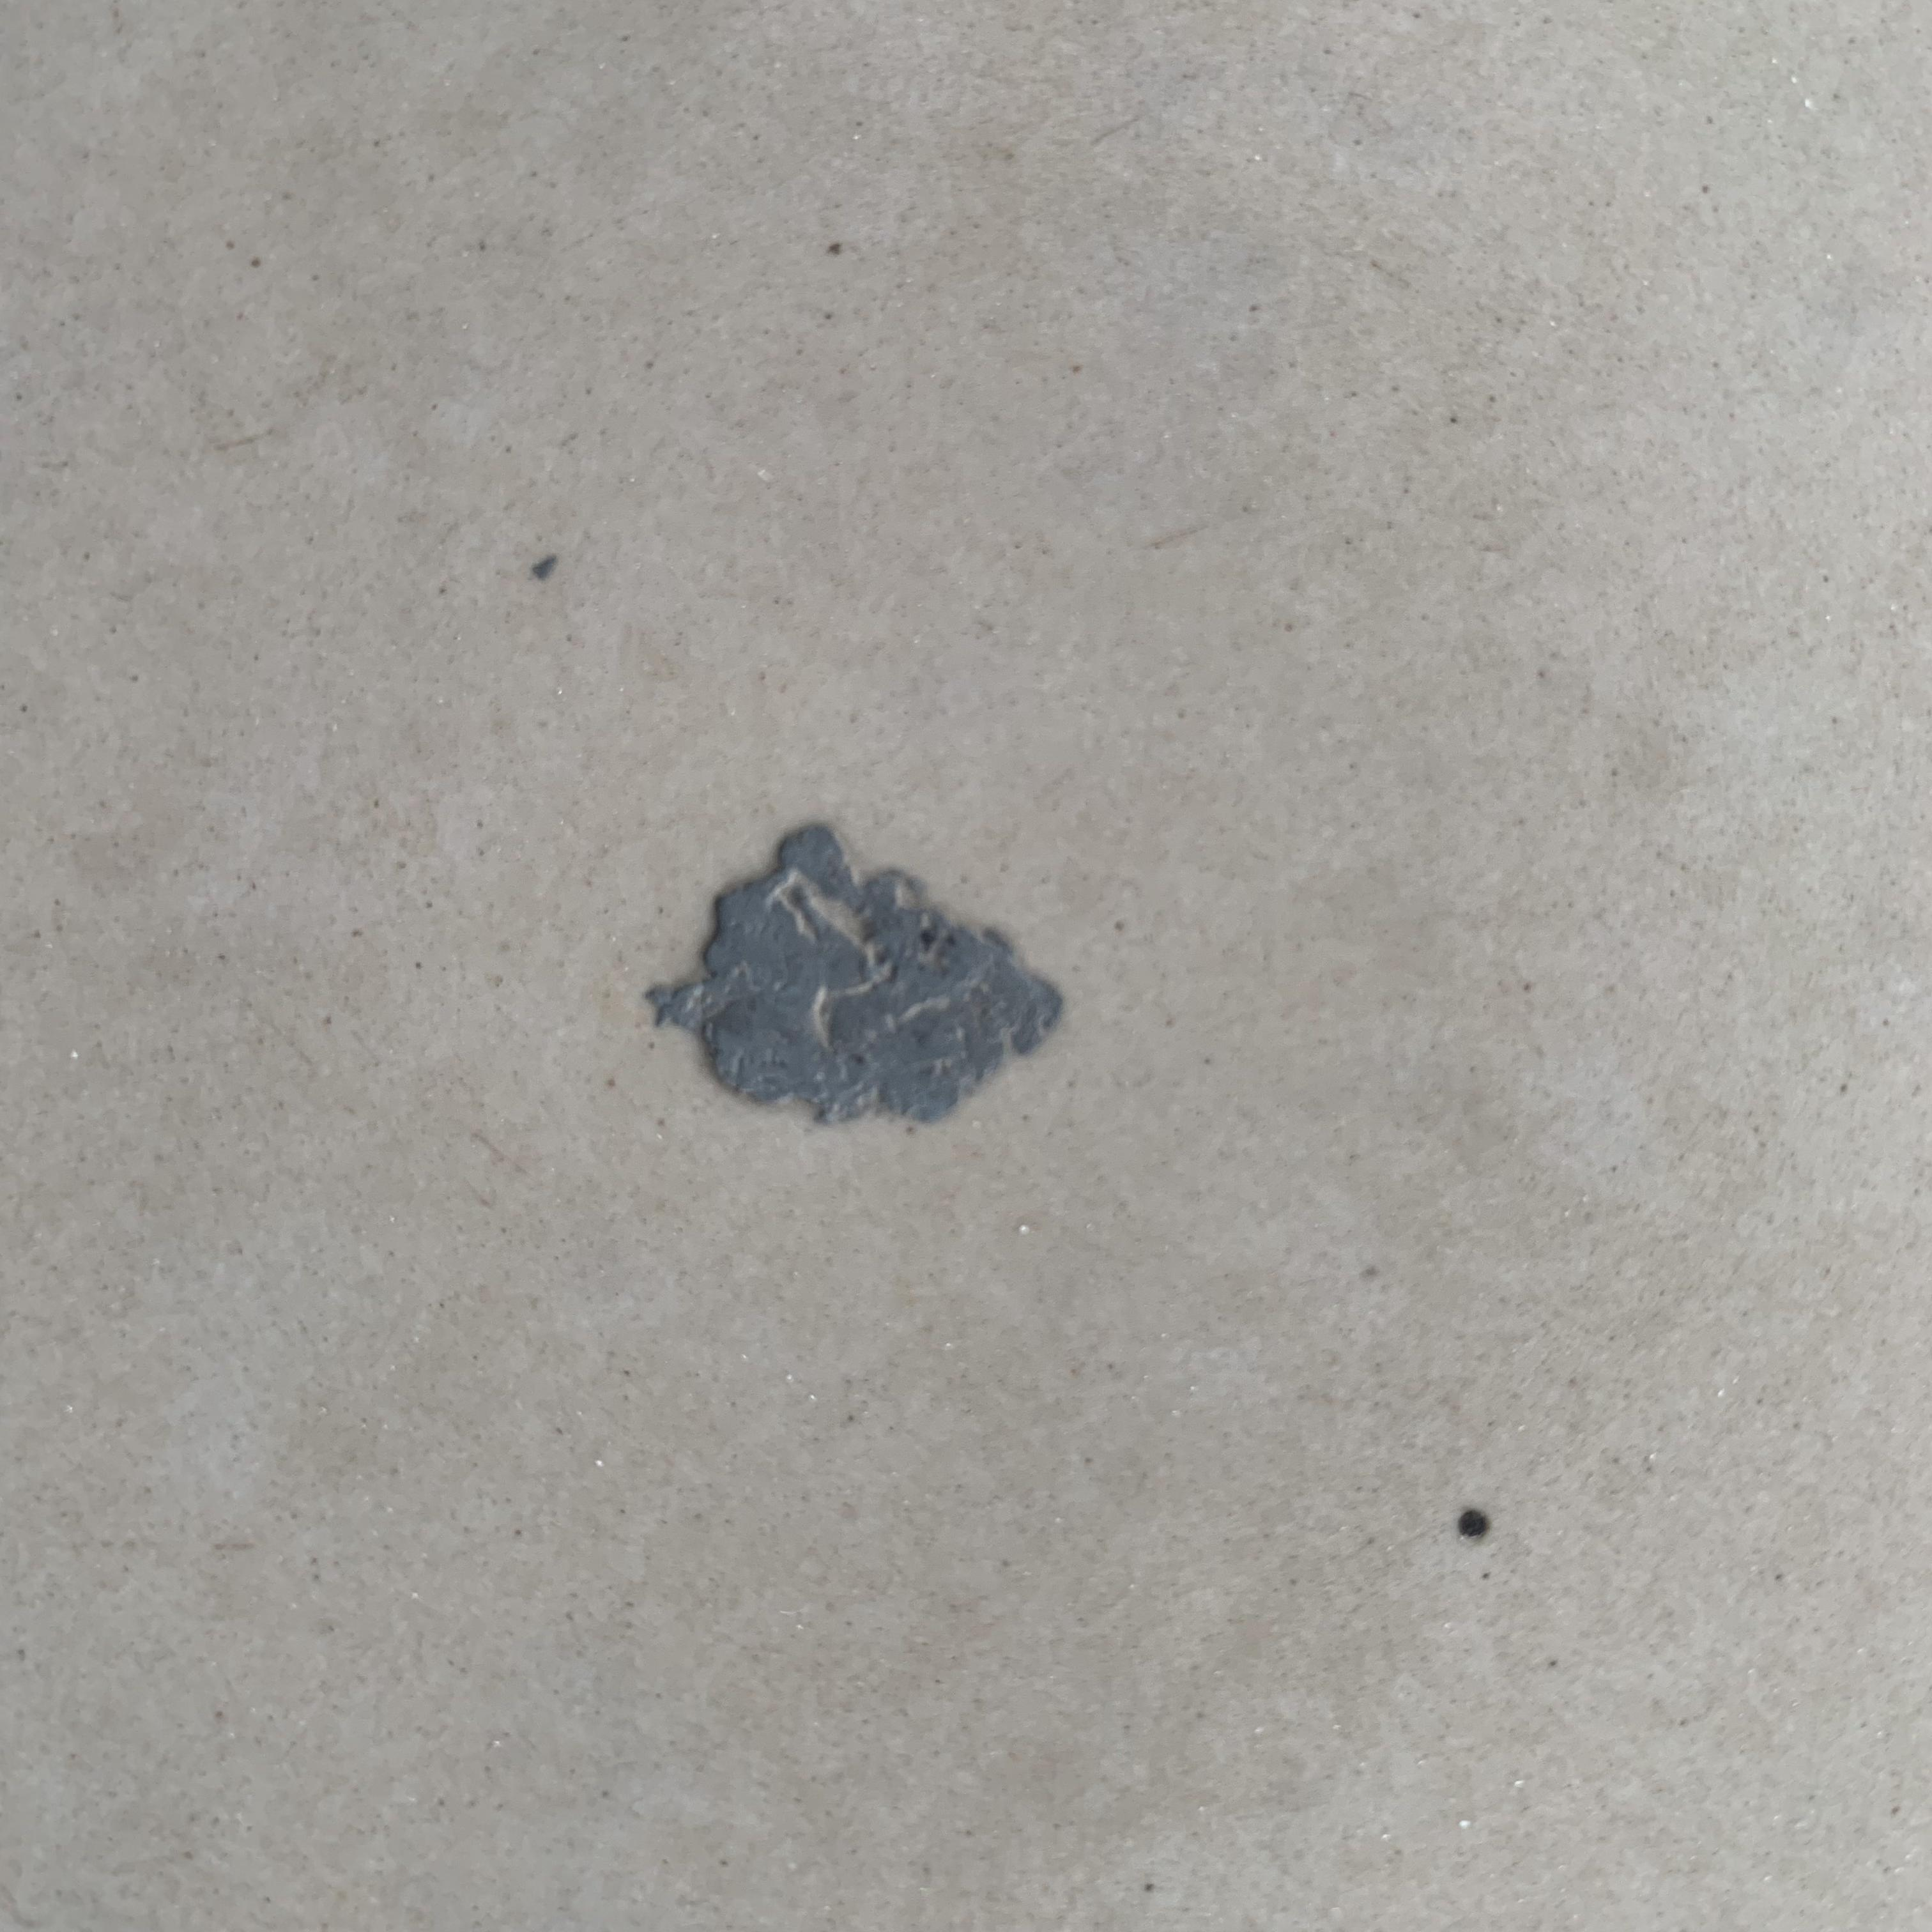grey spot: (642, 823, 1065, 1123), (1458, 1509, 1488, 1541)
